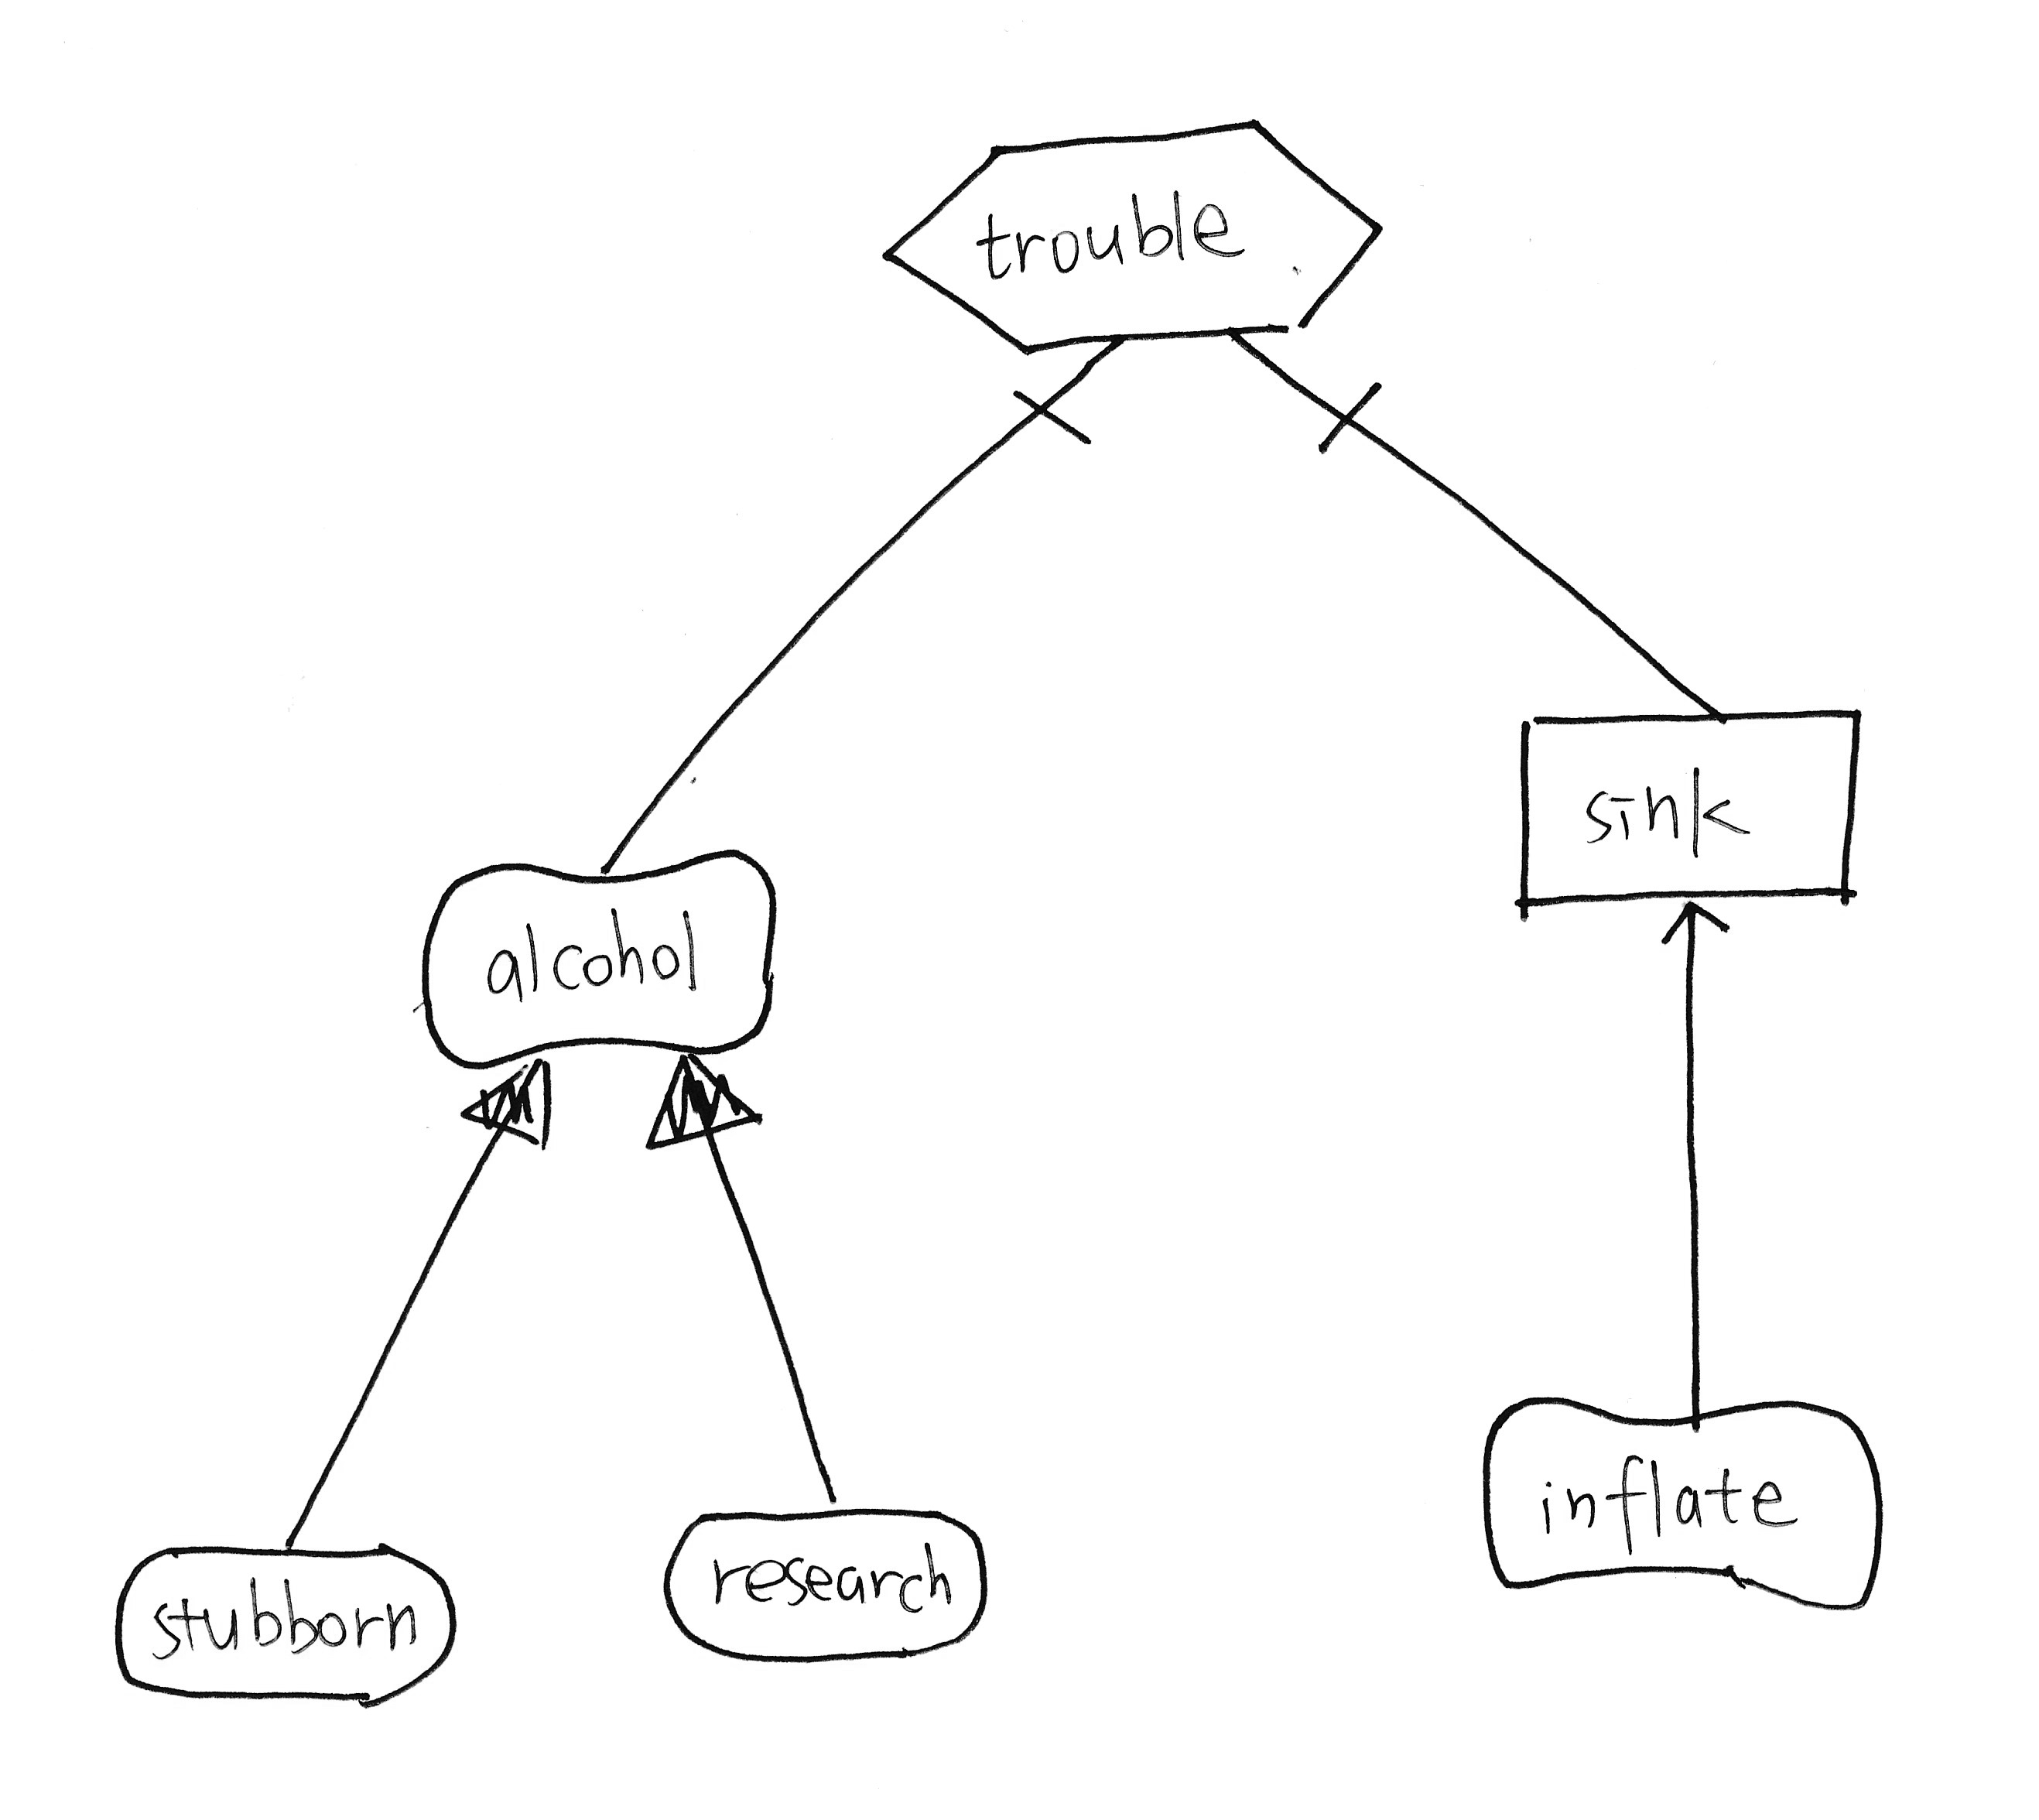and: (1210, 311, 1401, 473), (1005, 321, 1142, 467)
arrow: (1642, 884, 1739, 966)
goal: (98, 1528, 472, 1722), (646, 1488, 1005, 1676)
or: (632, 1047, 778, 1161), (450, 1045, 567, 1161)
quality: (1461, 1377, 1906, 1629), (395, 831, 797, 1086)
resource: (1498, 685, 1890, 928)
task: (861, 93, 1407, 371)
